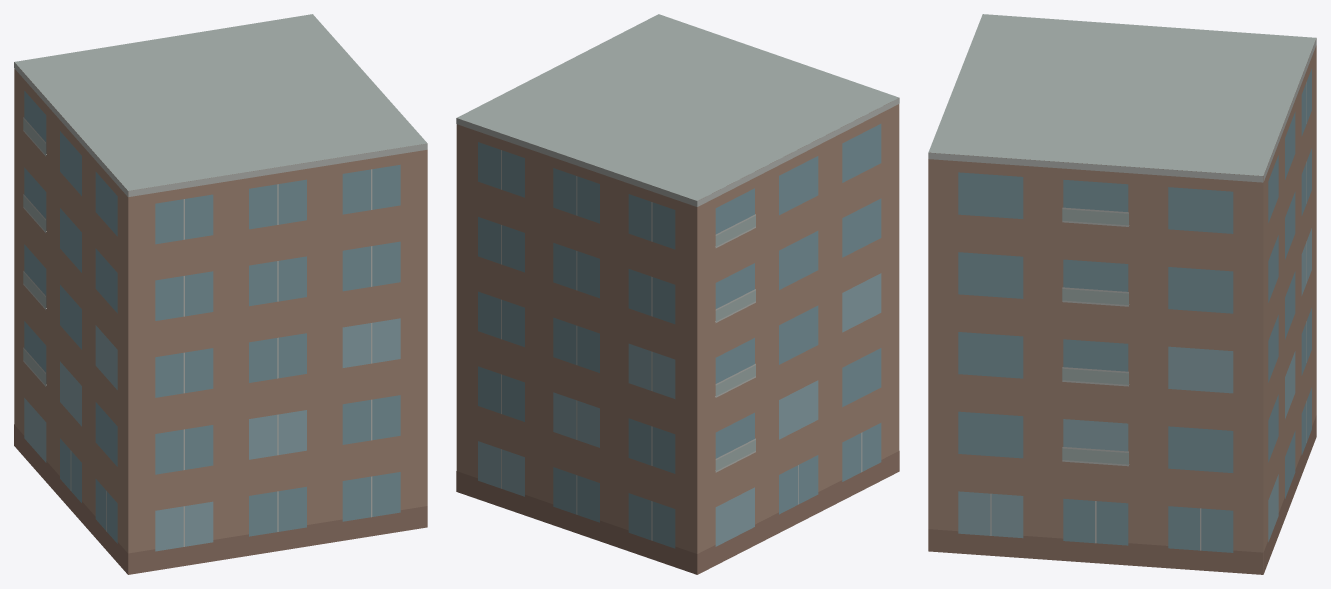
Rendered from survey-upis-32947709.glb.
3 views of the same model, side by side, from view 1: azimuth 30°, elevation 25°; view 2: azimuth 150°, elevation 25°; view 3: azimuth 270°, elevation 25° (orthographic). The views are drawn at different scales.
Visible parts, largest first — view 1: survey-upis-32947709.tmp; view 2: survey-upis-32947709.tmp; view 3: survey-upis-32947709.tmp.
Boxes of the visible parts, box(x1,y1,x2,y2) form: survey-upis-32947709.tmp: box(14, 14, 427, 574); survey-upis-32947709.tmp: box(456, 14, 899, 574); survey-upis-32947709.tmp: box(928, 14, 1316, 574).
Bounding box in the file's own units: 13.04 × 14.95 × 13.2.
